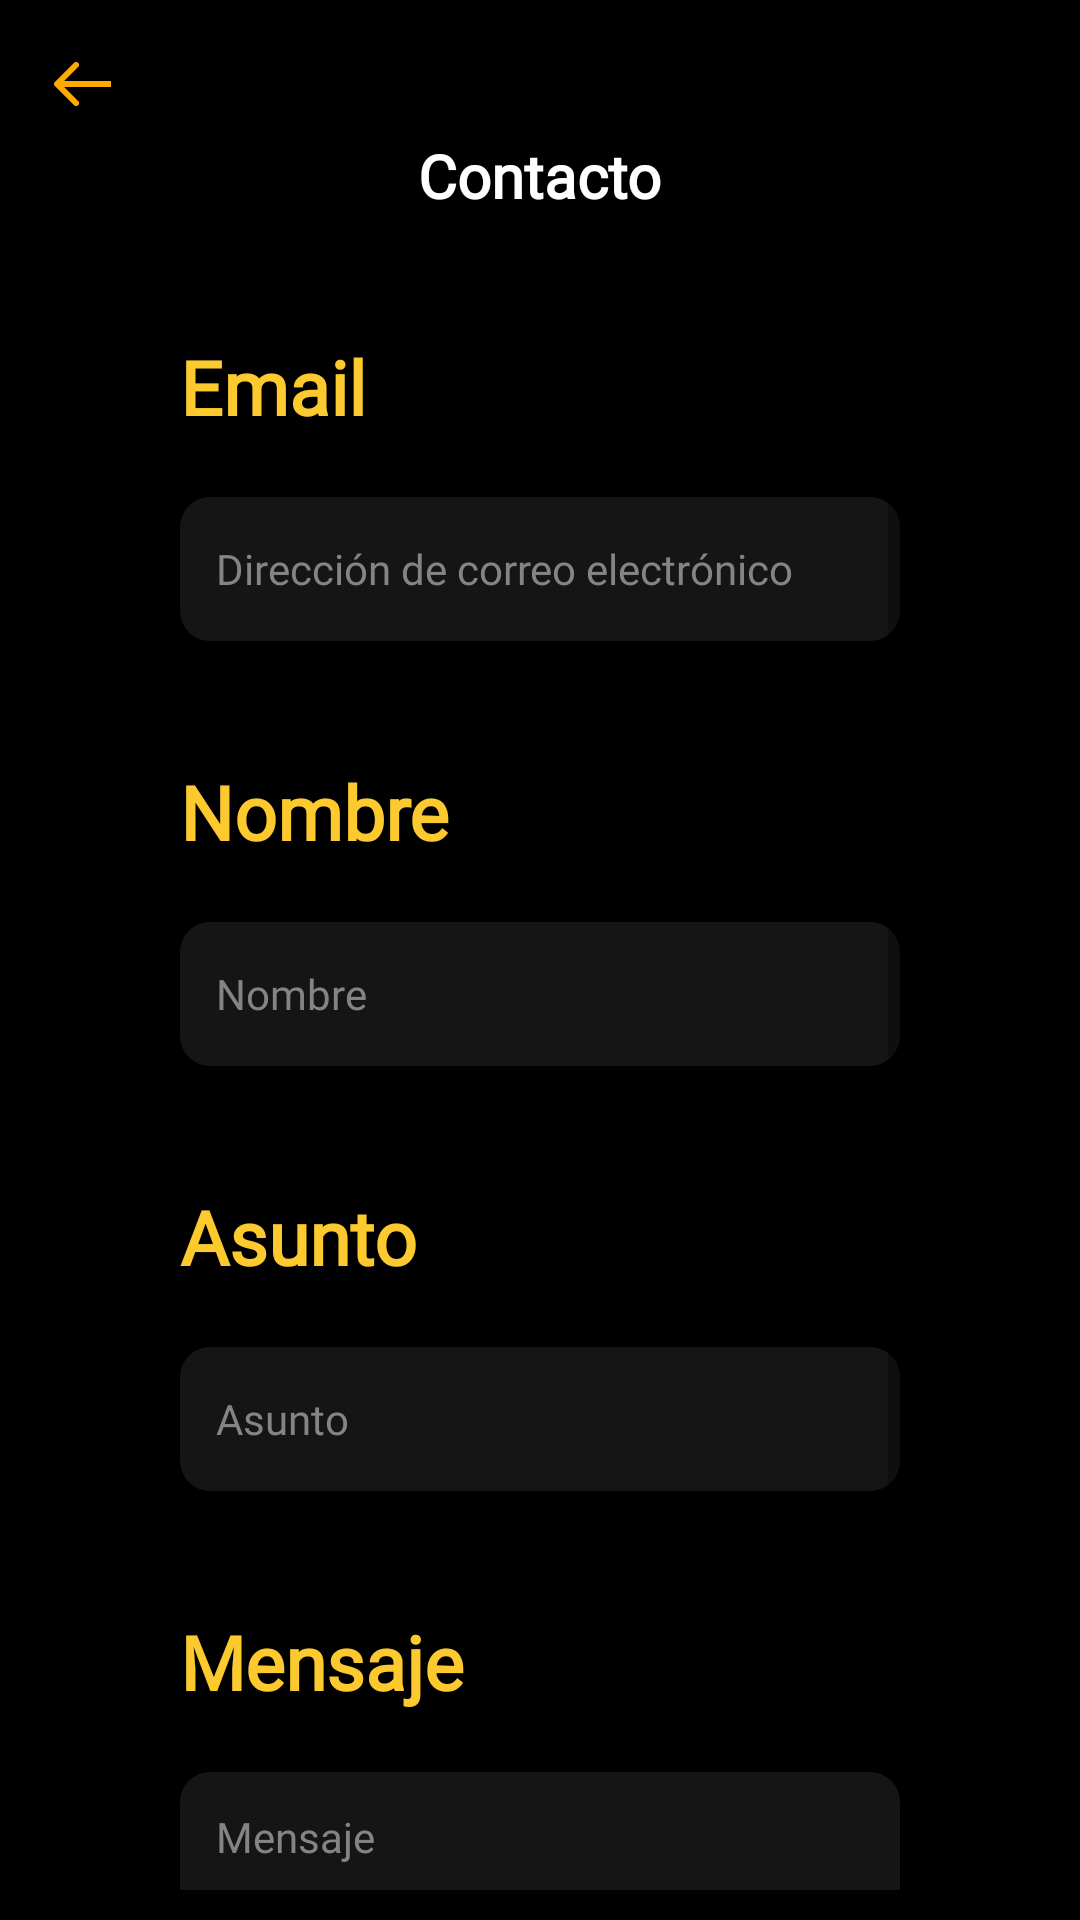

Point at icon controls on the screen. Image size 1080 × 1920, points as [x,y].
back: [82,84]
